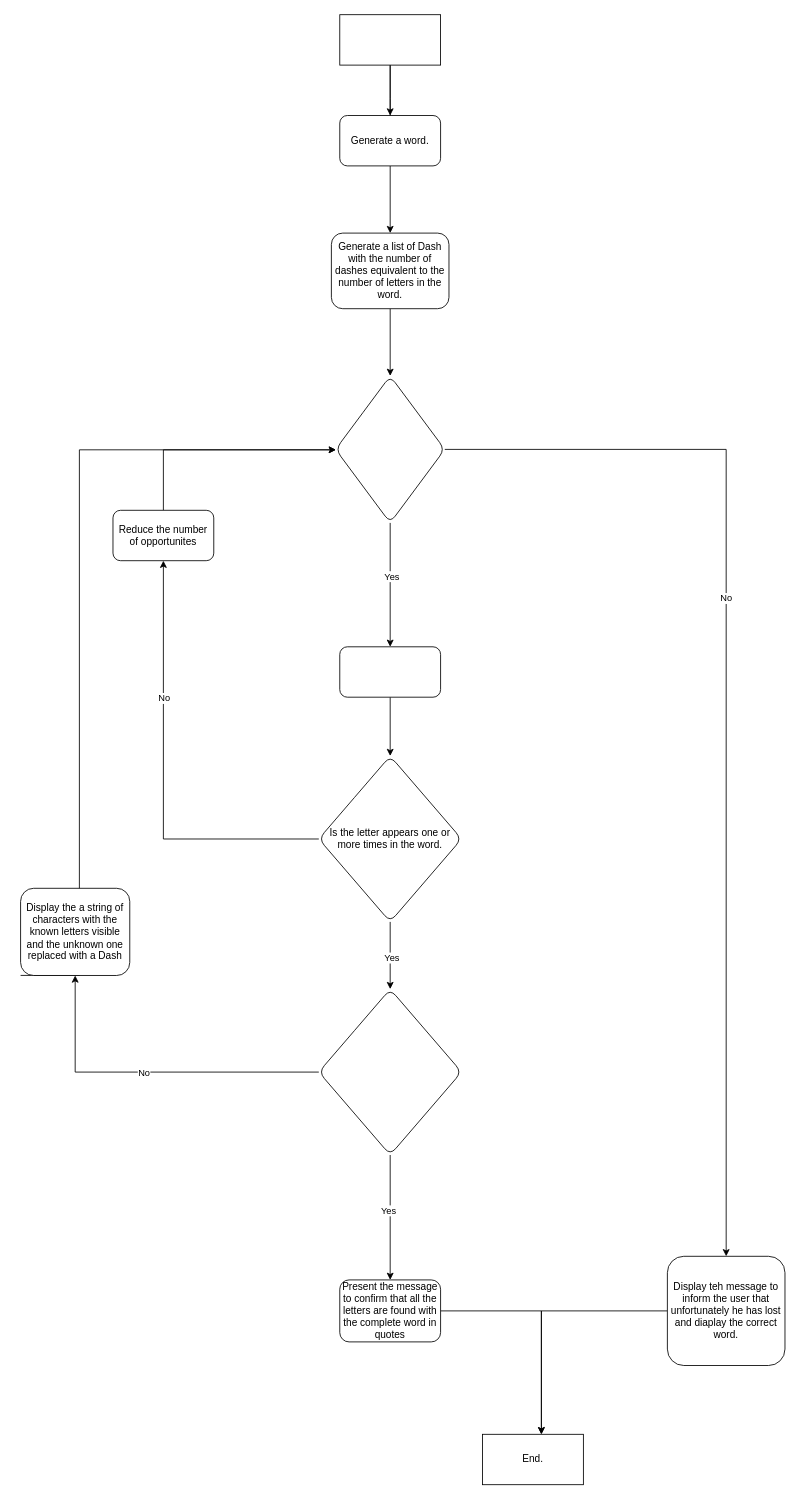
Image size: 800x1499. Some labels were removed from this diagram. The centre of each missing label's shape, as x and y in pixels:
"Are all the letters found" goes at (x=390, y=1071).
"Is the opportunity still present?" goes at (x=390, y=449).
"Requesting a letter" goes at (x=390, y=671).
"Start" goes at (x=390, y=39).
